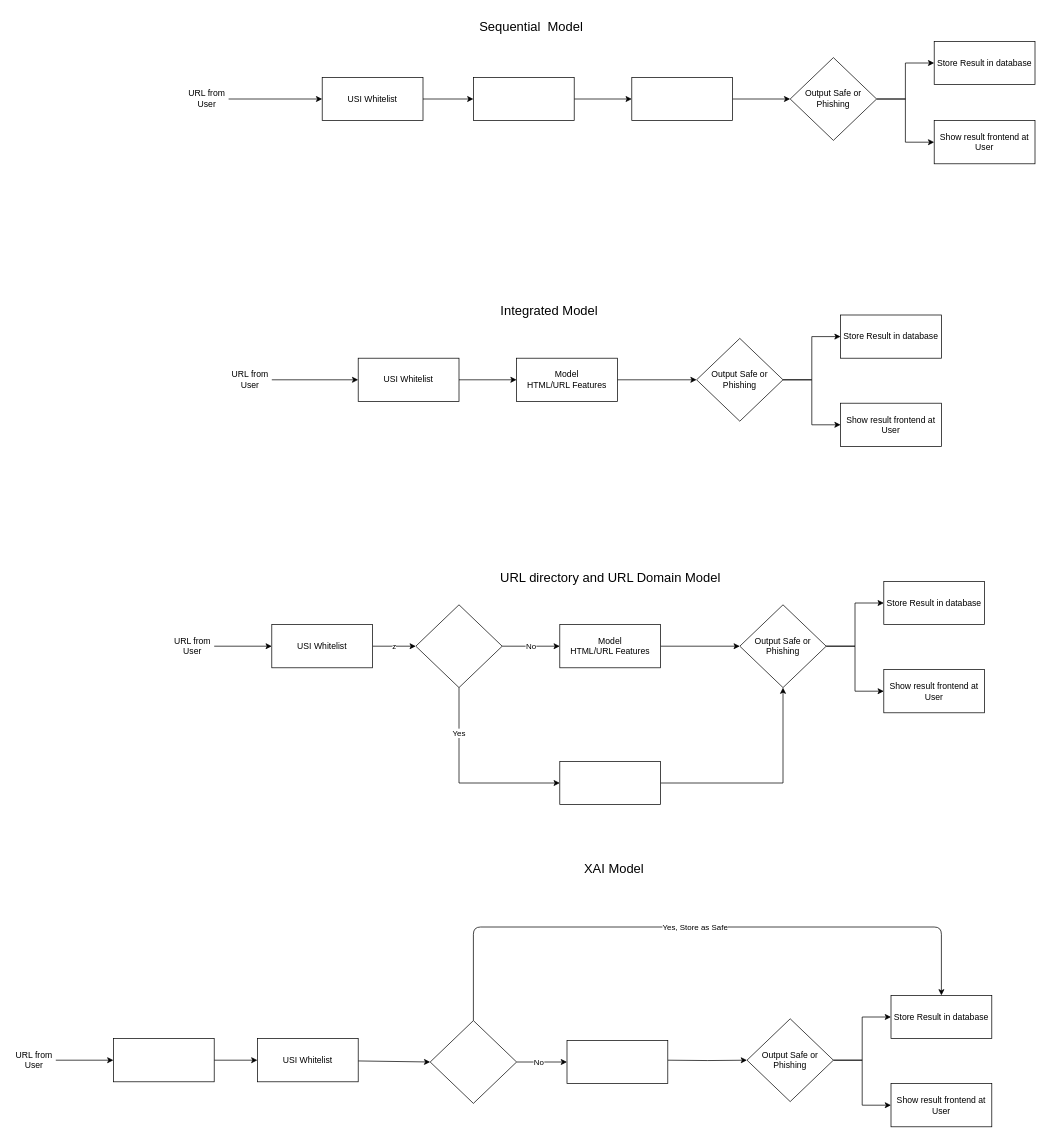
Image size: 1048x1139. Some labels were removed from this diagram. The box of each missing label's shape, as (x1, y1, x2, y2) in pixels:
Has Directory: (415, 604, 502, 688)
Integrated XAI Model Wrapper: (566, 1040, 668, 1084)
Is URL inside whitelist?: (429, 1020, 517, 1103)
Model 2: HTML/URL Features Trained on different Dataset: (559, 761, 661, 805)
Model: HTML Feature: (631, 77, 733, 121)
Model: Url Feature: (473, 77, 574, 121)
Preprocessor to extract feature variables: (113, 1038, 214, 1082)
